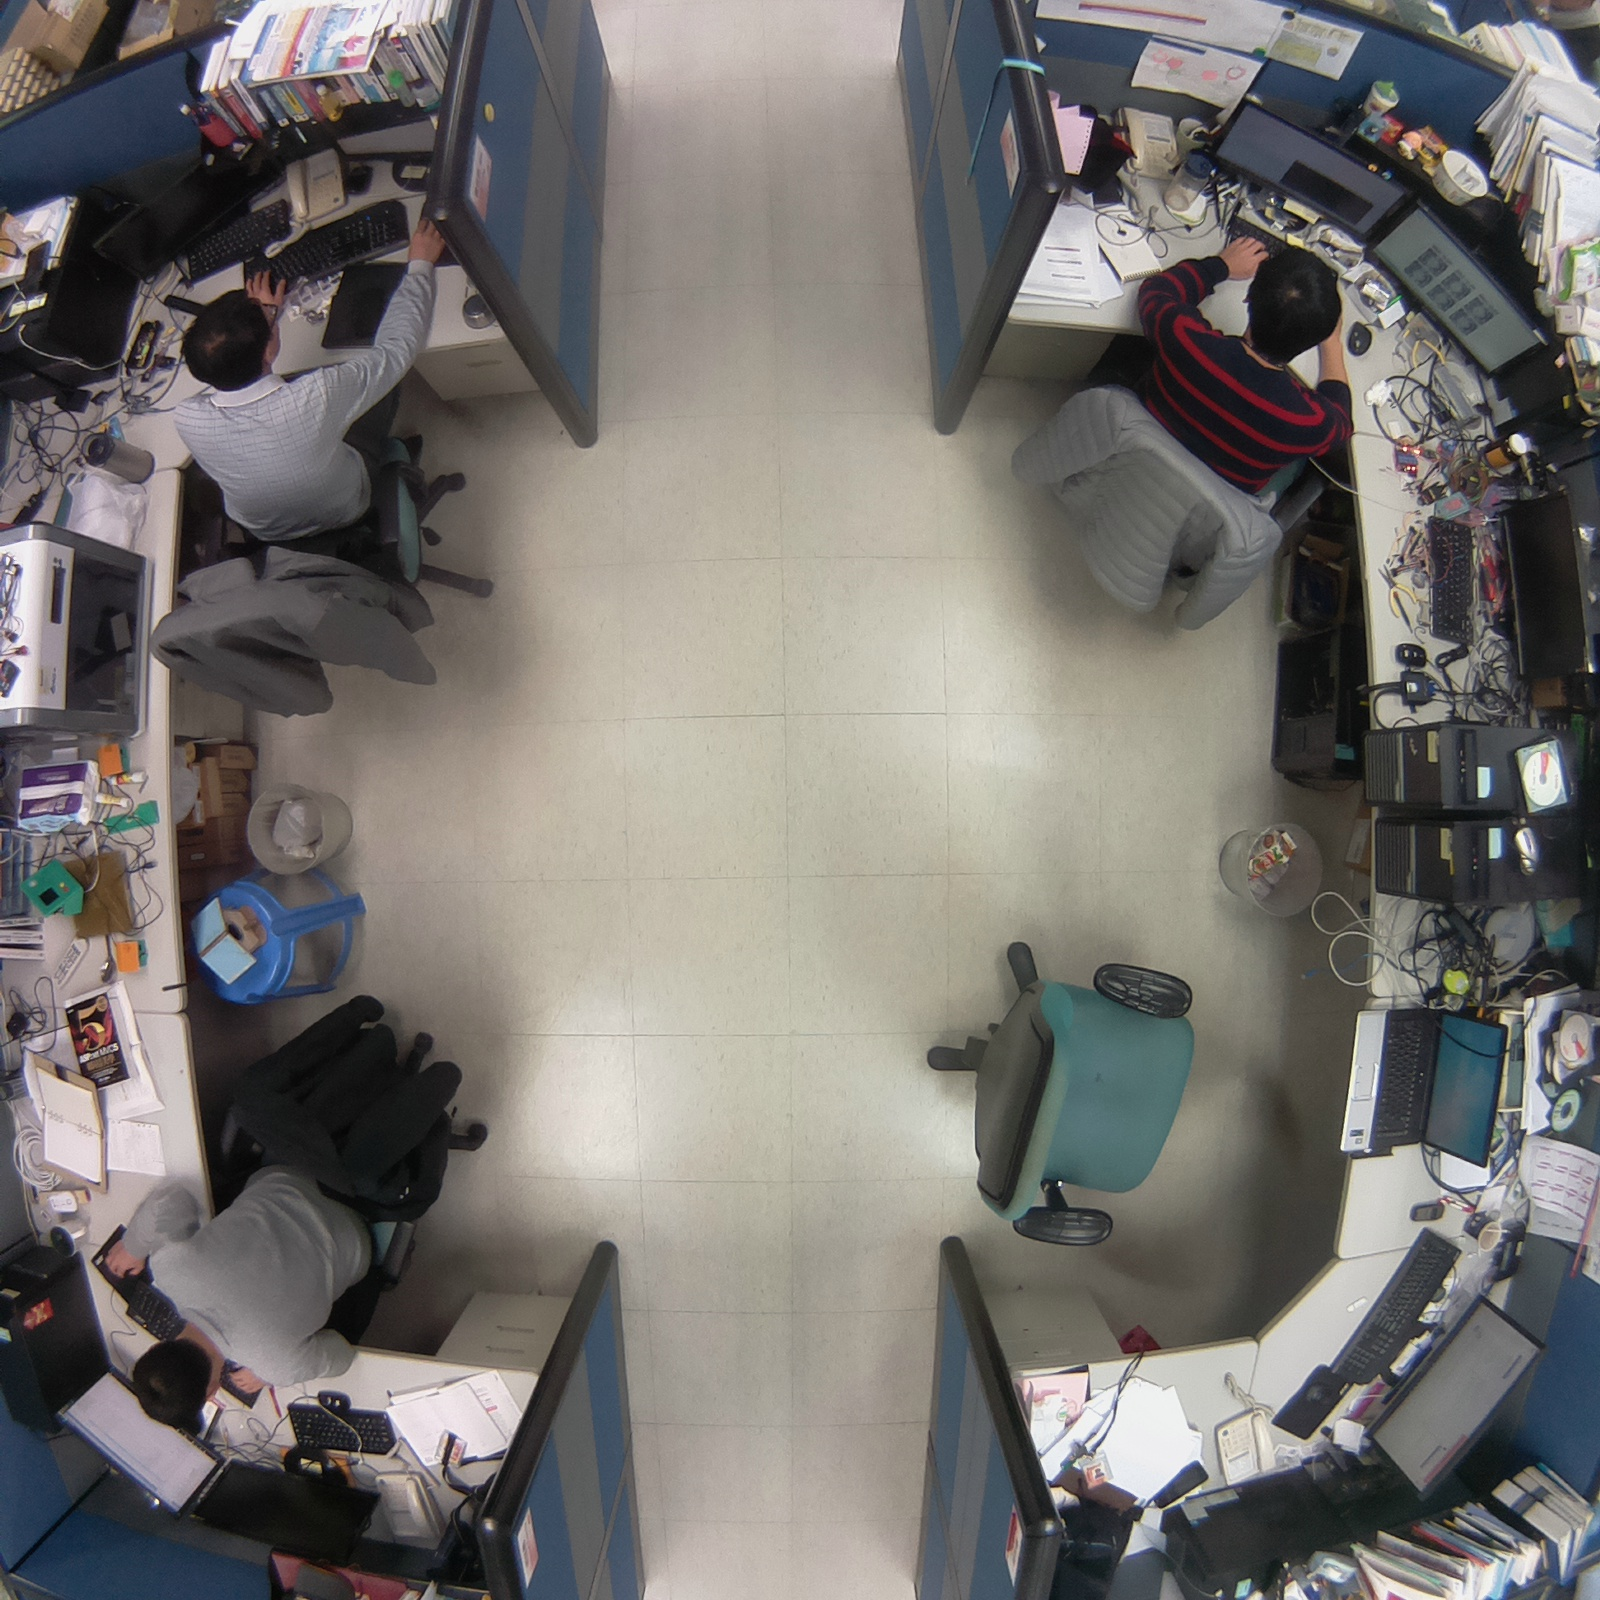chair: (886, 919, 1232, 1273)
head: (1236, 242, 1351, 357), (174, 287, 283, 393), (125, 1329, 219, 1434)
sitting: (91, 983, 506, 1427), (119, 273, 506, 732), (996, 235, 1368, 655), (93, 1164, 379, 1429), (162, 278, 401, 546)
